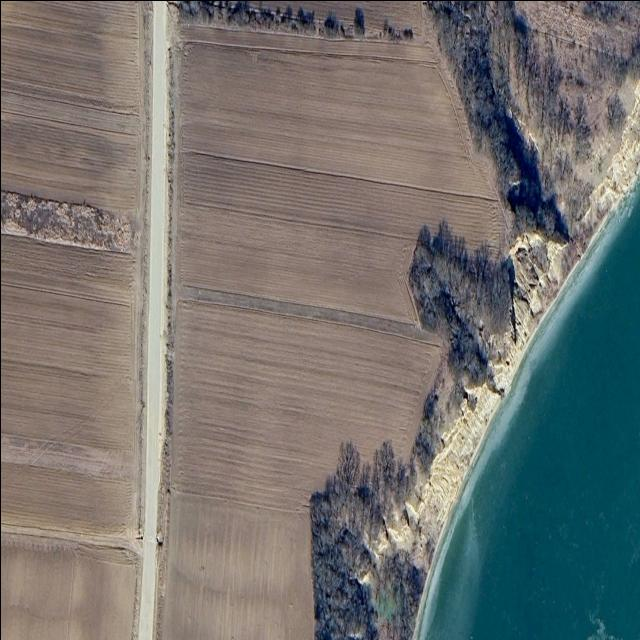bare-soil: (153, 0, 507, 639), (366, 80, 640, 575), (0, 0, 152, 639)
building: (136, 0, 165, 639)
tree: (311, 0, 567, 639), (477, 1, 640, 219), (175, 0, 414, 43)
water: (415, 171, 640, 639)
